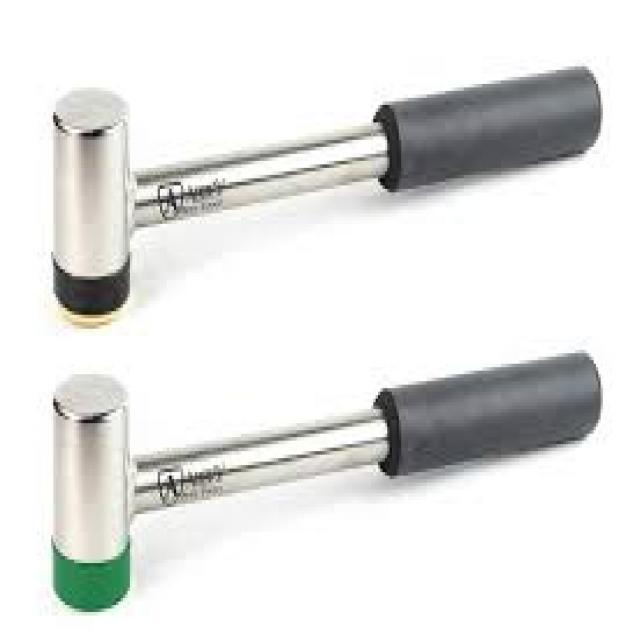hammer: (39, 346, 612, 626), (41, 55, 610, 328)
